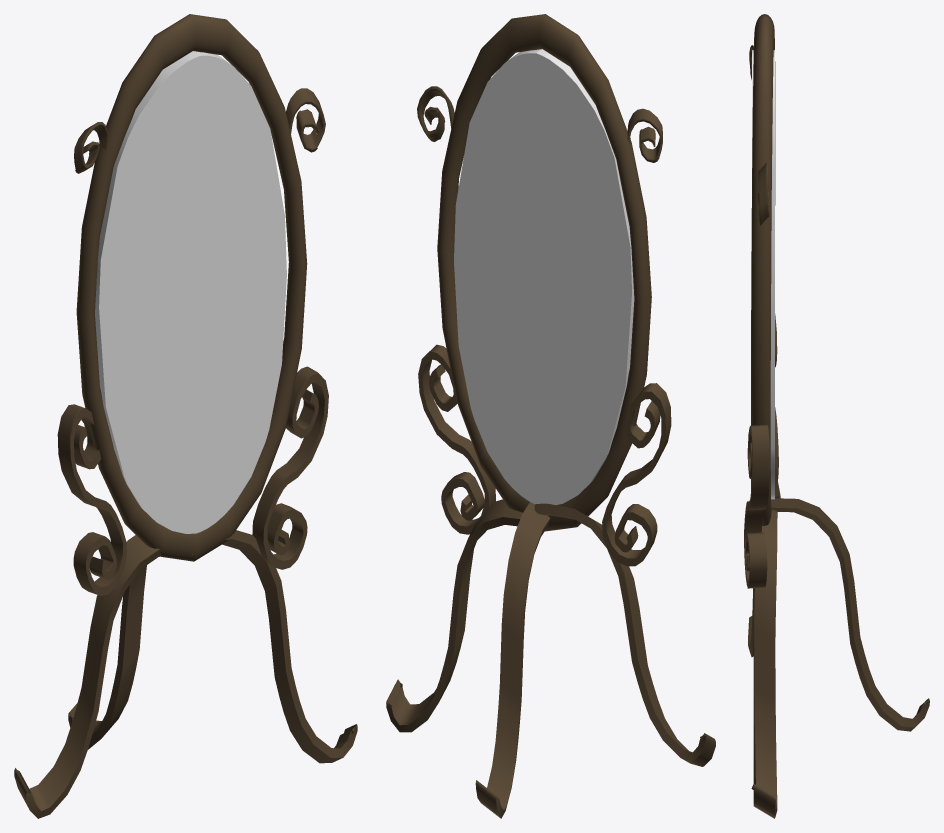
The model's file is mirror blank.fbx.
3 views of the same model, side by side, from view 1: azimuth 30°, elevation 25°; view 2: azimuth 150°, elevation 25°; view 3: azimuth 270°, elevation 25° (orthographic). The views are drawn at different scales.
Parts seen in each view (by area): view 1: planarTrimmedSurface1, grove_mirror:polySurface4, grove_mirror:polySurface7, grove_mirror:polySurface3, grove_mirror:polySurface2, grove_mirror:polySurface5, grove_mirror:polySurface8, grove_mirror:polySurface6, grove_mirror:polySurface9; view 2: planarTrimmedSurface1, grove_mirror:polySurface4, grove_mirror:polySurface8, grove_mirror:polySurface3, grove_mirror:polySurface2, grove_mirror:polySurface5, grove_mirror:polySurface7, grove_mirror:polySurface9, grove_mirror:polySurface6; view 3: grove_mirror:polySurface4, grove_mirror:polySurface5, grove_mirror:polySurface8, grove_mirror:polySurface3, planarTrimmedSurface1, grove_mirror:polySurface6, grove_mirror:polySurface7.
Part boxes in pixels (x1=…): planarTrimmedSurface1: x1=95, y1=51, x2=286, y2=533; grove_mirror:polySurface4: x1=76, y1=14, x2=307, y2=561; grove_mirror:polySurface7: x1=14, y1=535, x2=162, y2=818; grove_mirror:polySurface3: x1=252, y1=366, x2=328, y2=569; grove_mirror:polySurface2: x1=57, y1=404, x2=126, y2=595; grove_mirror:polySurface5: x1=222, y1=530, x2=357, y2=763; grove_mirror:polySurface8: x1=68, y1=546, x2=192, y2=749; grove_mirror:polySurface6: x1=286, y1=88, x2=325, y2=152; grove_mirror:polySurface9: x1=74, y1=122, x2=108, y2=173; planarTrimmedSurface1: x1=454, y1=49, x2=634, y2=504; grove_mirror:polySurface4: x1=437, y1=14, x2=651, y2=531; grove_mirror:polySurface8: x1=475, y1=502, x2=550, y2=818; grove_mirror:polySurface3: x1=418, y1=344, x2=495, y2=534; grove_mirror:polySurface2: x1=602, y1=383, x2=671, y2=566; grove_mirror:polySurface5: x1=386, y1=499, x2=522, y2=732; grove_mirror:polySurface7: x1=534, y1=503, x2=715, y2=766; grove_mirror:polySurface9: x1=627, y1=108, x2=662, y2=162; grove_mirror:polySurface6: x1=417, y1=86, x2=454, y2=141; grove_mirror:polySurface4: x1=751, y1=14, x2=775, y2=525; grove_mirror:polySurface5: x1=751, y1=510, x2=777, y2=818; grove_mirror:polySurface8: x1=771, y1=498, x2=929, y2=731; grove_mirror:polySurface3: x1=744, y1=424, x2=769, y2=588; planarTrimmedSurface1: x1=752, y1=50, x2=774, y2=499; grove_mirror:polySurface6: x1=757, y1=162, x2=769, y2=225; grove_mirror:polySurface7: x1=748, y1=473, x2=780, y2=657.
Size of the model in its own units: 5.61 by 12.63 by 2.9.
